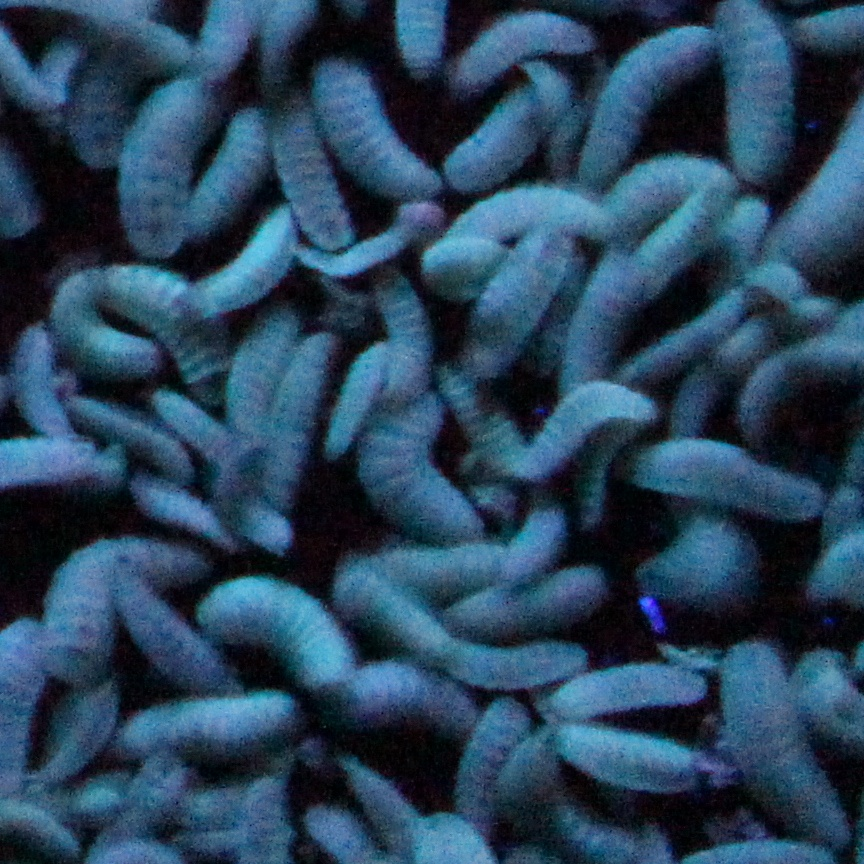larve: (602, 21, 706, 155), (123, 93, 201, 263), (636, 524, 769, 623), (34, 522, 116, 674), (727, 644, 787, 849), (642, 449, 824, 515), (720, 11, 790, 182), (565, 722, 710, 799), (796, 94, 862, 258), (332, 55, 404, 200), (746, 360, 864, 448), (127, 694, 296, 755), (367, 426, 474, 522), (216, 585, 331, 670), (124, 572, 200, 689), (277, 330, 322, 505), (67, 43, 124, 174), (457, 193, 609, 241), (463, 584, 606, 635), (510, 395, 603, 473), (377, 272, 429, 411), (799, 641, 859, 758), (570, 248, 620, 388), (45, 685, 117, 781), (62, 314, 156, 385), (227, 293, 270, 432), (284, 106, 332, 229), (459, 636, 589, 681), (218, 114, 265, 238), (327, 690, 477, 728), (359, 743, 415, 842), (10, 322, 60, 432), (454, 108, 520, 188), (459, 10, 517, 101), (592, 663, 708, 708), (510, 488, 565, 579), (510, 734, 558, 831), (330, 331, 366, 459), (480, 273, 549, 338), (658, 224, 722, 293), (126, 484, 222, 529), (614, 162, 684, 223), (119, 761, 176, 835), (637, 305, 683, 393), (360, 576, 419, 644), (247, 785, 294, 861), (423, 241, 479, 303), (477, 699, 503, 830), (397, 548, 500, 581), (155, 399, 220, 443), (683, 363, 718, 430)
